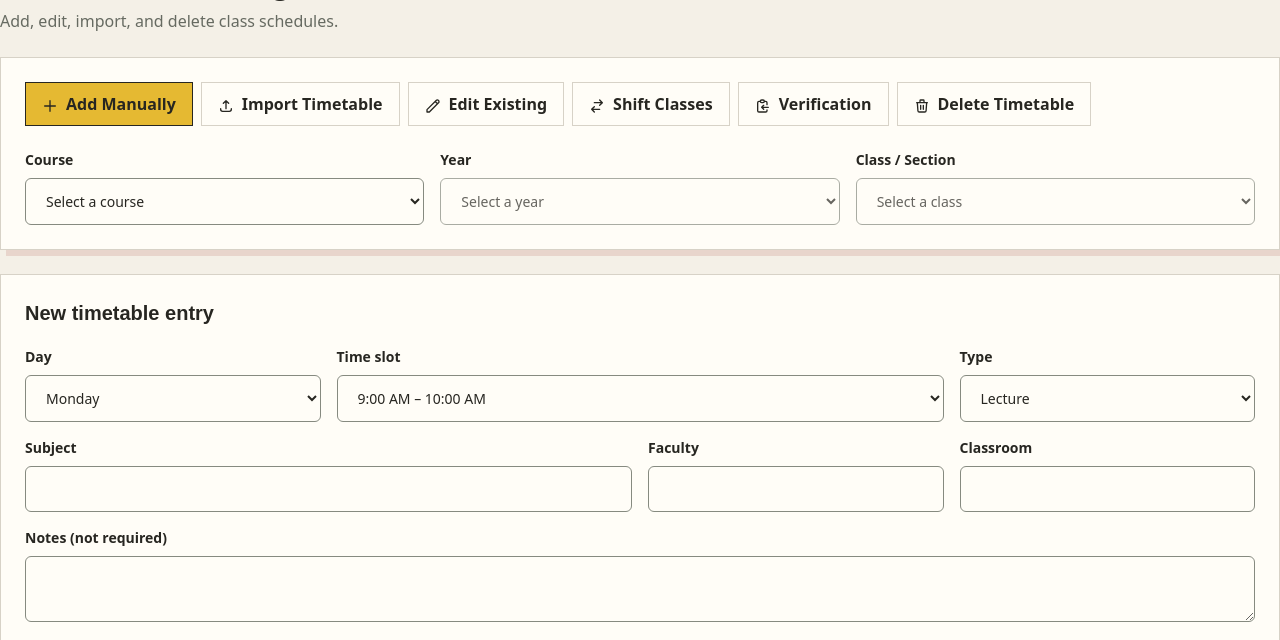
it: AdminTimetablePage › shows imported rows in a preview without saving them
The image size is (1280, 640).
Select "B.Tech CSE AI" in the dropdown labelled "Course" at (225, 202), box x1=25 y1=178 x2=424 y2=225
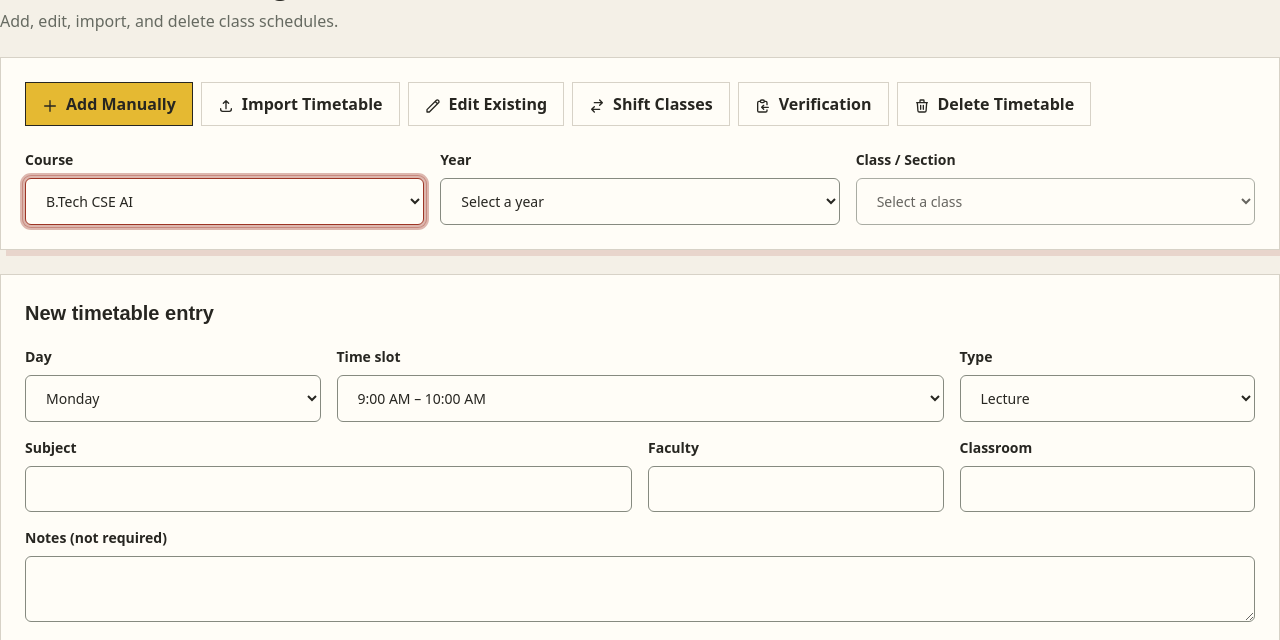
Select "Year 2" in the dropdown labelled "Year" at (640, 202), box x1=440 y1=178 x2=840 y2=225
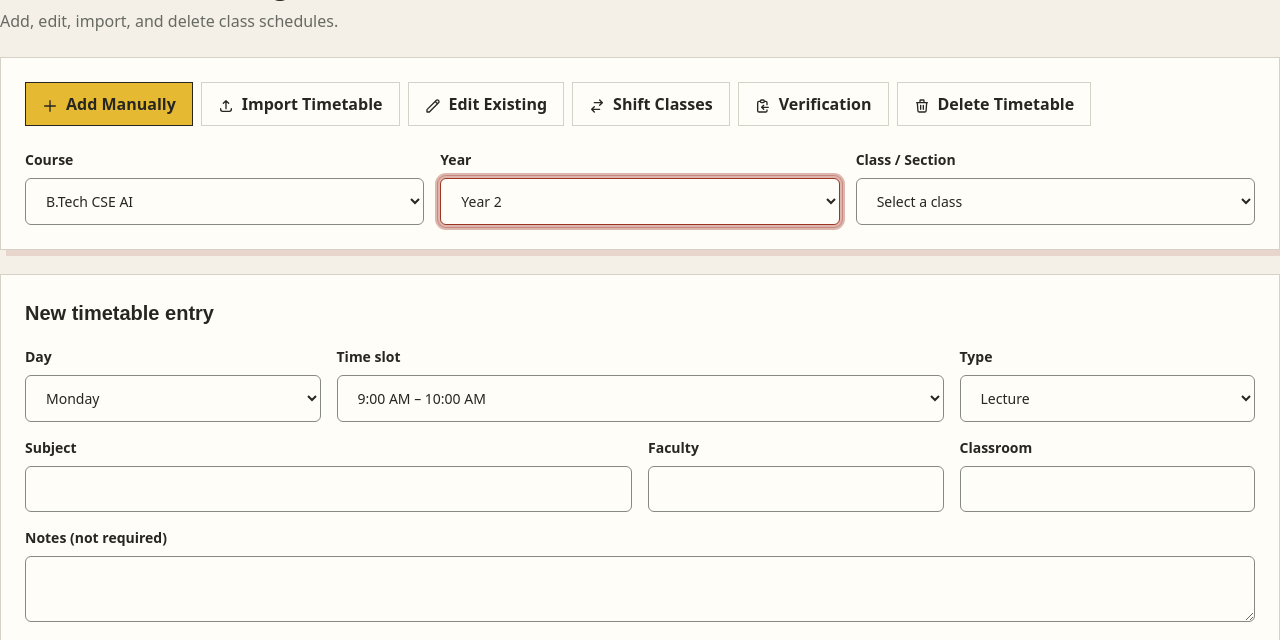
Select "CSAI2B" in the dropdown labelled "Class / Section" at (1055, 202), box x1=856 y1=178 x2=1255 y2=225
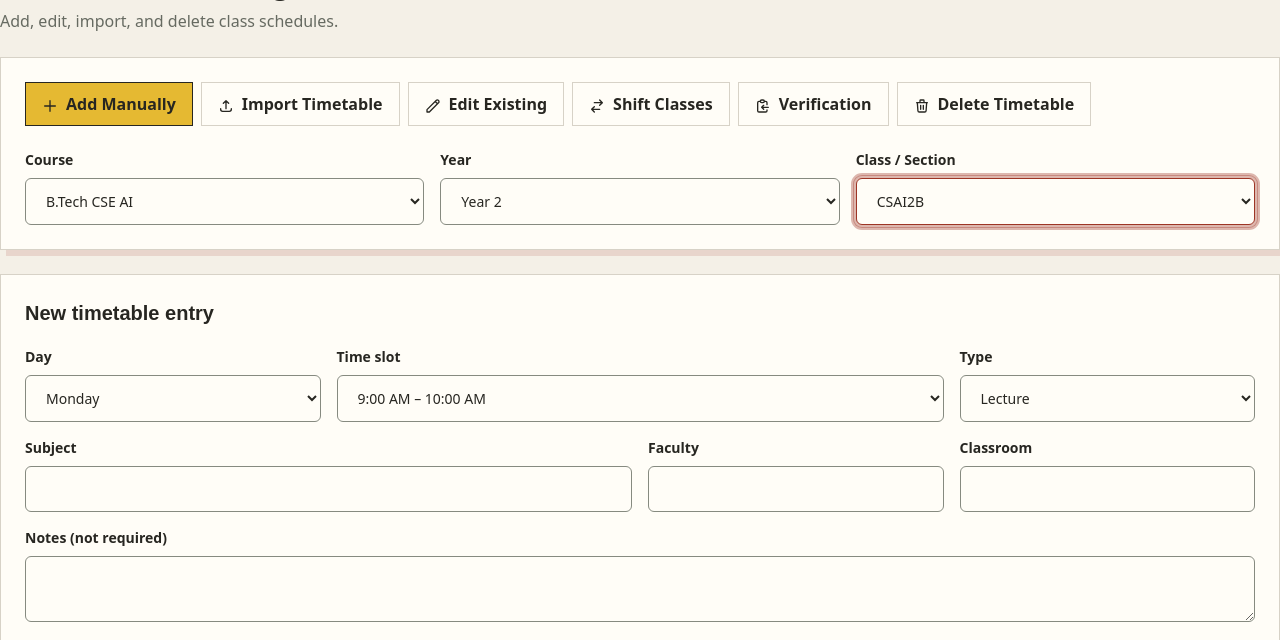
Click the tab "Import Timetable" at (300, 104), box x1=201 y1=82 x2=400 y2=126
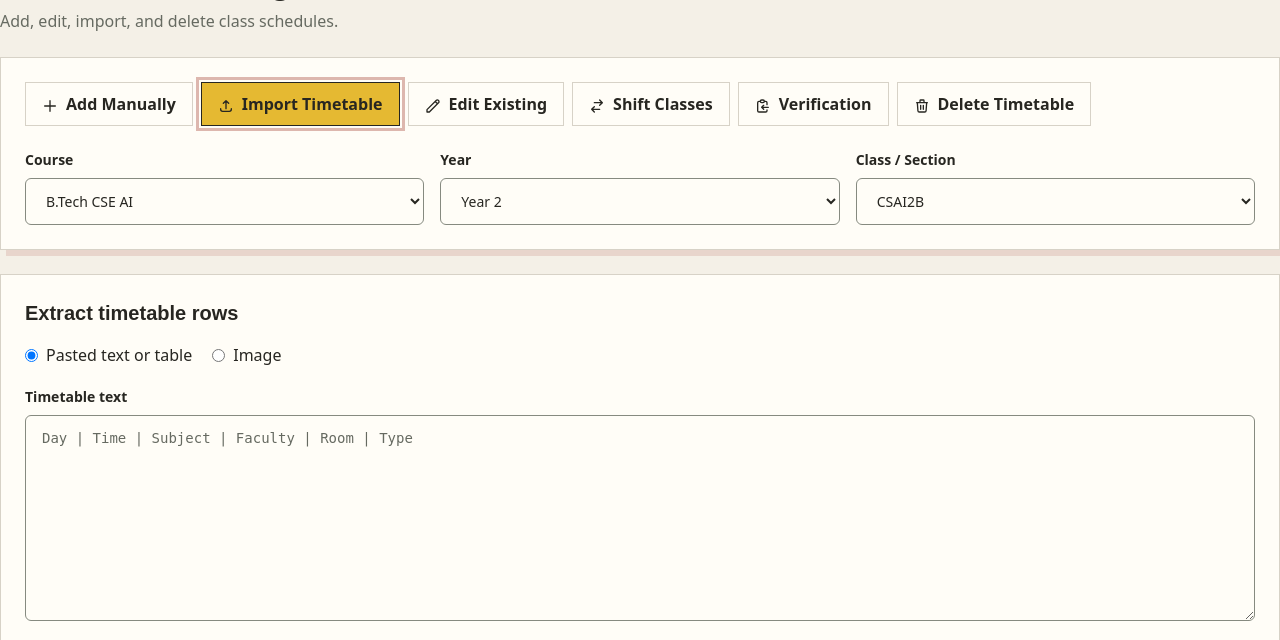
Type "Day | Time | Subject | Teacher | Room" into the text box labelled "Timetable text" at (640, 518), box x1=25 y1=415 x2=1255 y2=621
(page scrolled)
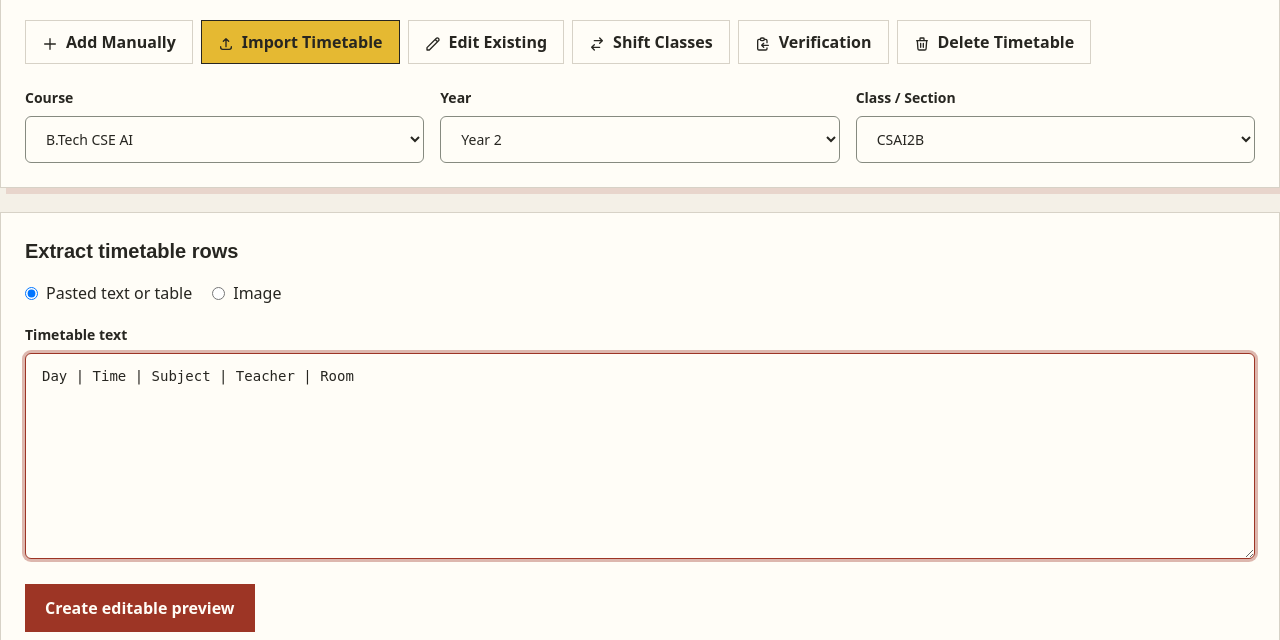
Click the button "Create editable preview" at (140, 608), box x1=25 y1=584 x2=254 y2=632
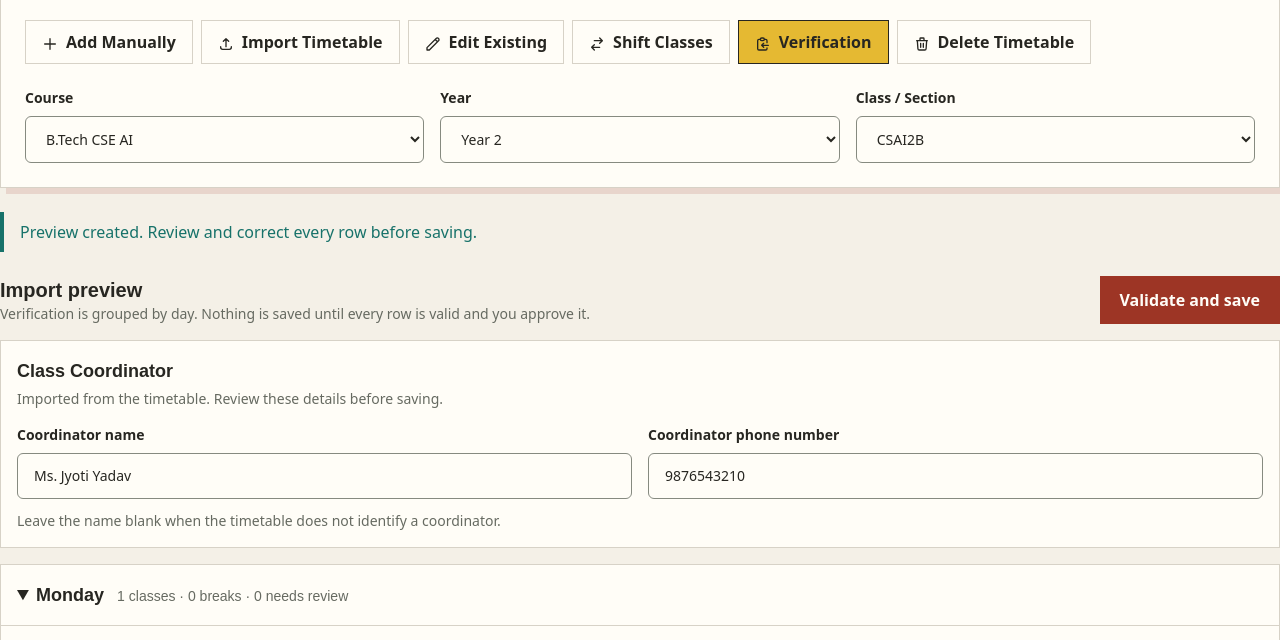
Expected: the heading "Import preview" is shown, x1=0 y1=279 x2=142 y2=301
Expected: the field labelled "Coordinator name" holds "Ms. Jyoti Yadav", x1=17 y1=453 x2=632 y2=499
Expected: the field labelled "Coordinator phone number" holds "9876543210", x1=648 y1=453 x2=1263 y2=499
